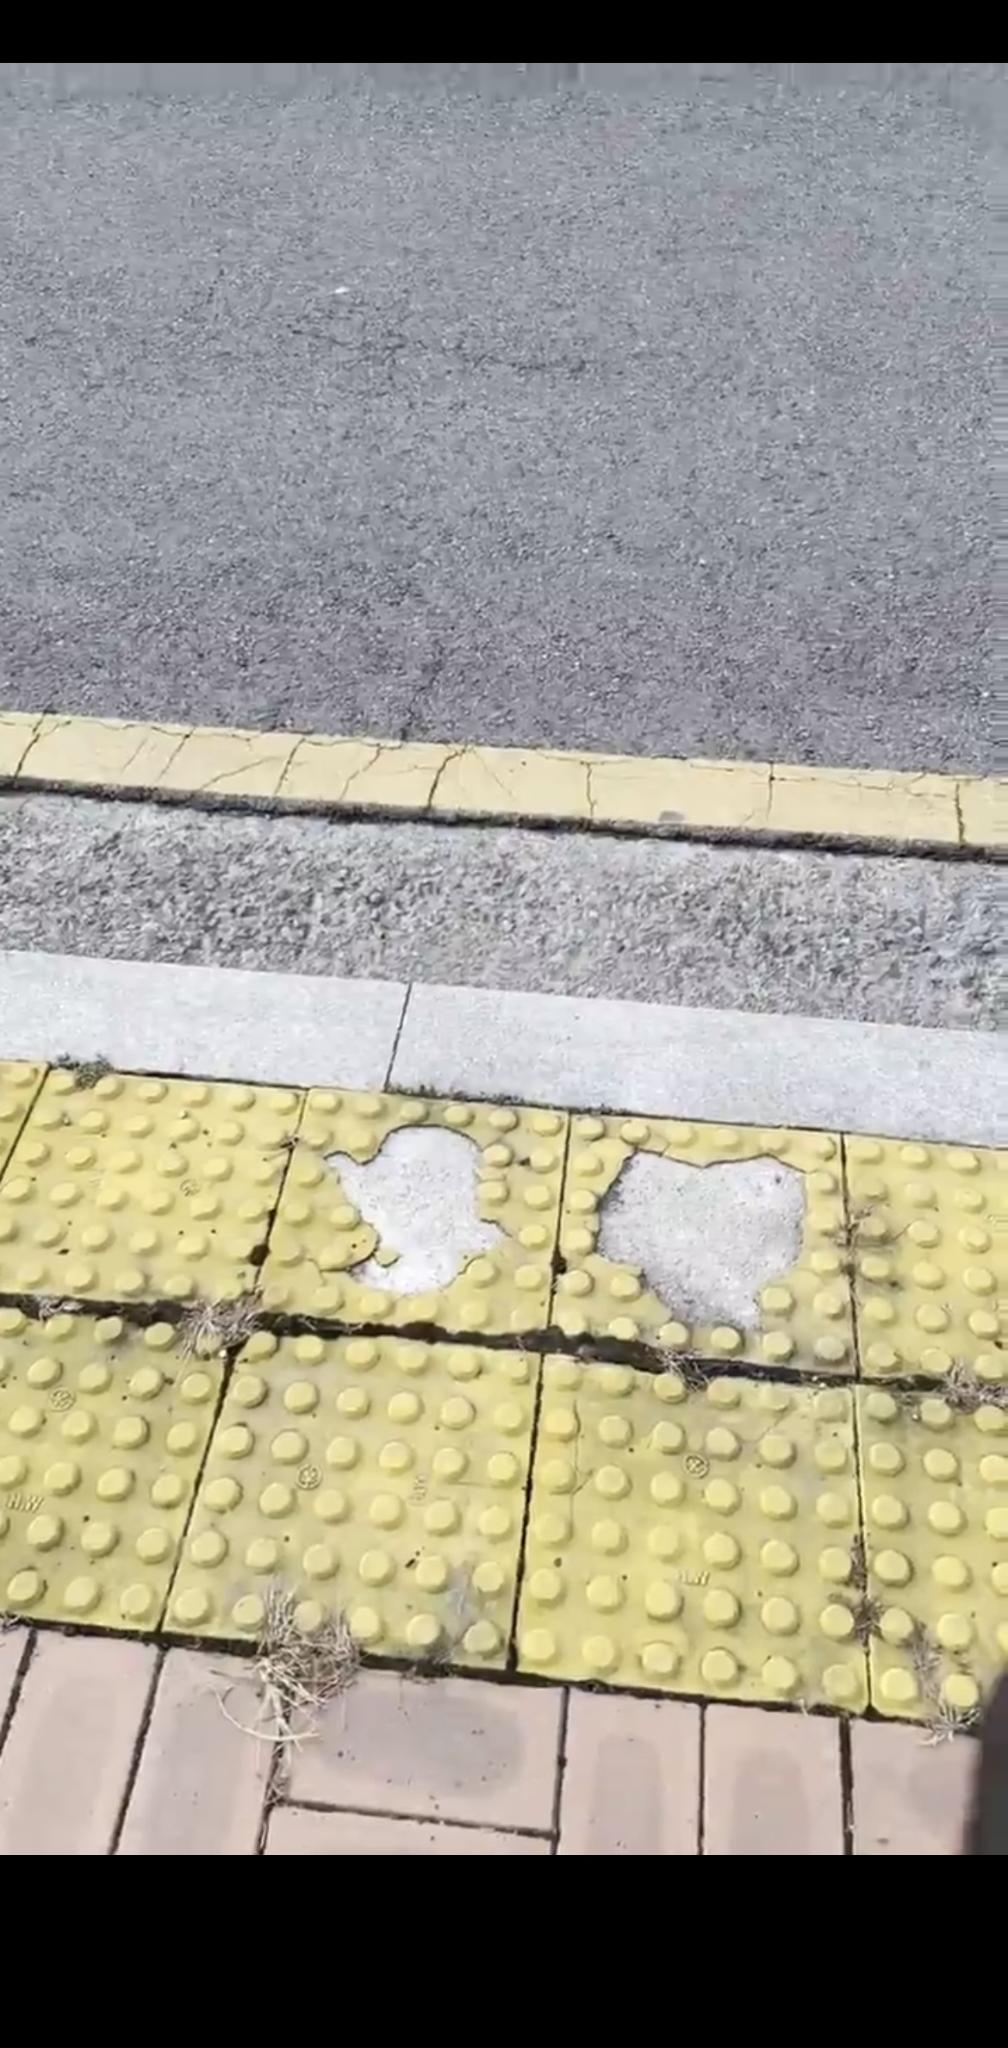Stop block broken: (547, 1113, 854, 1374), (251, 1089, 567, 1340)
Stop block normal: (513, 1353, 866, 1710)
